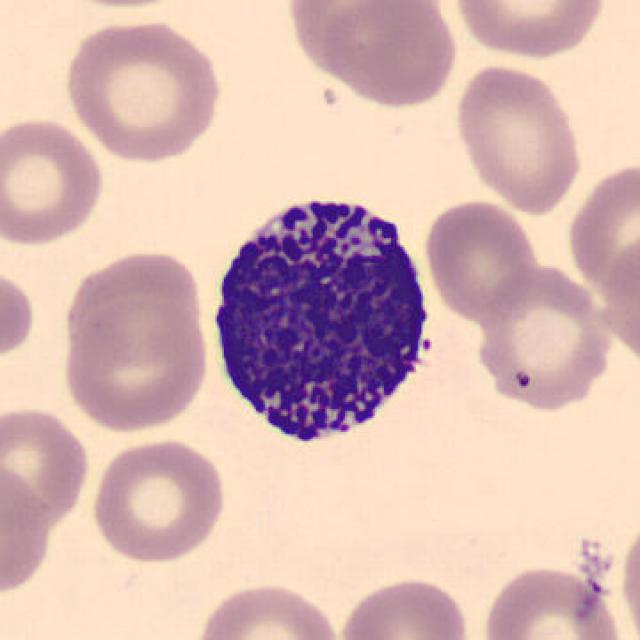Basophil: (196, 174, 450, 466)
RBC: (58, 16, 225, 164), (469, 261, 619, 414), (58, 292, 212, 436), (449, 60, 586, 217), (87, 435, 229, 566), (59, 245, 208, 369), (311, 0, 460, 109), (422, 196, 542, 324), (0, 114, 107, 248), (476, 560, 632, 640), (0, 402, 92, 529), (564, 155, 638, 302), (282, 0, 412, 79), (450, 0, 610, 60), (334, 573, 476, 640), (190, 578, 343, 640), (0, 469, 54, 598), (590, 238, 640, 356), (0, 260, 37, 368), (617, 502, 640, 640), (48, 0, 201, 14)
